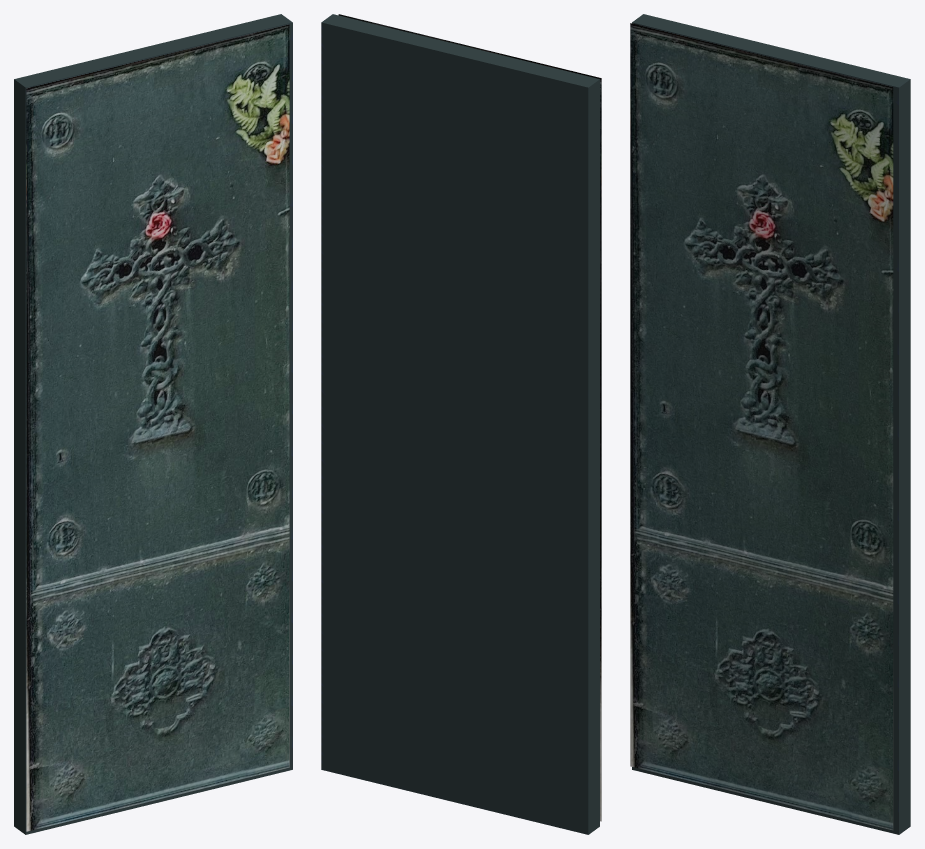
The model's file is portaJazCesario.fbx.
The picture shows the model from 3 angles, left to right: view 1: azimuth 30°, elevation 25°; view 2: azimuth 150°, elevation 25°; view 3: azimuth 330°, elevation 25°; orthographic projection.
Parts seen in each view (by area): view 1: root (×2); view 2: root (×2); view 3: root (×2).
Part boxes in pixels (left/top/right/bottom): root (×2): left=14, top=14, right=292, bottom=834; root (×2): left=321, top=14, right=601, bottom=834; root (×2): left=630, top=14, right=910, bottom=834.
Bounding box in the file's own units: 0.6998 × 1.87 × 0.0578.
2 materials, 2 textured.
